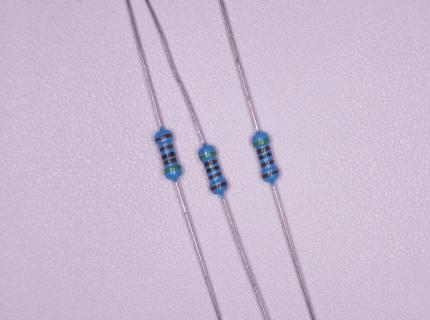Black band: (205, 165, 221, 175), (258, 151, 273, 161), (161, 151, 176, 160)
Brown band: (210, 181, 228, 192), (262, 169, 280, 179), (154, 133, 173, 142), (256, 146, 271, 155), (203, 158, 218, 167), (208, 172, 223, 180), (261, 160, 275, 168), (159, 144, 173, 152), (164, 158, 177, 166)
Green band: (253, 138, 271, 148), (199, 151, 217, 160), (163, 165, 182, 173)
